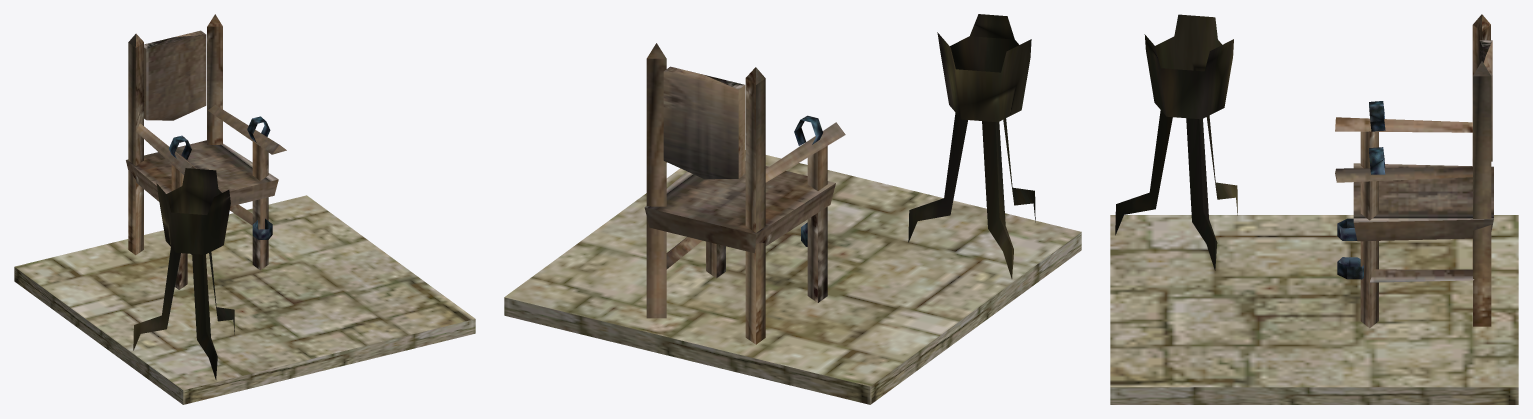
Rendered from building_torture_branding.glb.
The picture shows the model from 3 angles, left to right: view 1: azimuth 30°, elevation 25°; view 2: azimuth 150°, elevation 25°; view 3: azimuth 270°, elevation 25°; orthographic projection. The views are drawn at different scales.
Visible parts, largest first — view 1: building_torture_branding; view 2: building_torture_branding; view 3: building_torture_branding.
Part boxes in pixels (<box>): building_torture_branding: <box>14,14,475,404</box>; building_torture_branding: <box>504,14,1081,404</box>; building_torture_branding: <box>1110,14,1518,404</box>.
Bounding box in the file's own units: 2.05 × 1.56 × 2.05.
3 materials, 3 textured.
